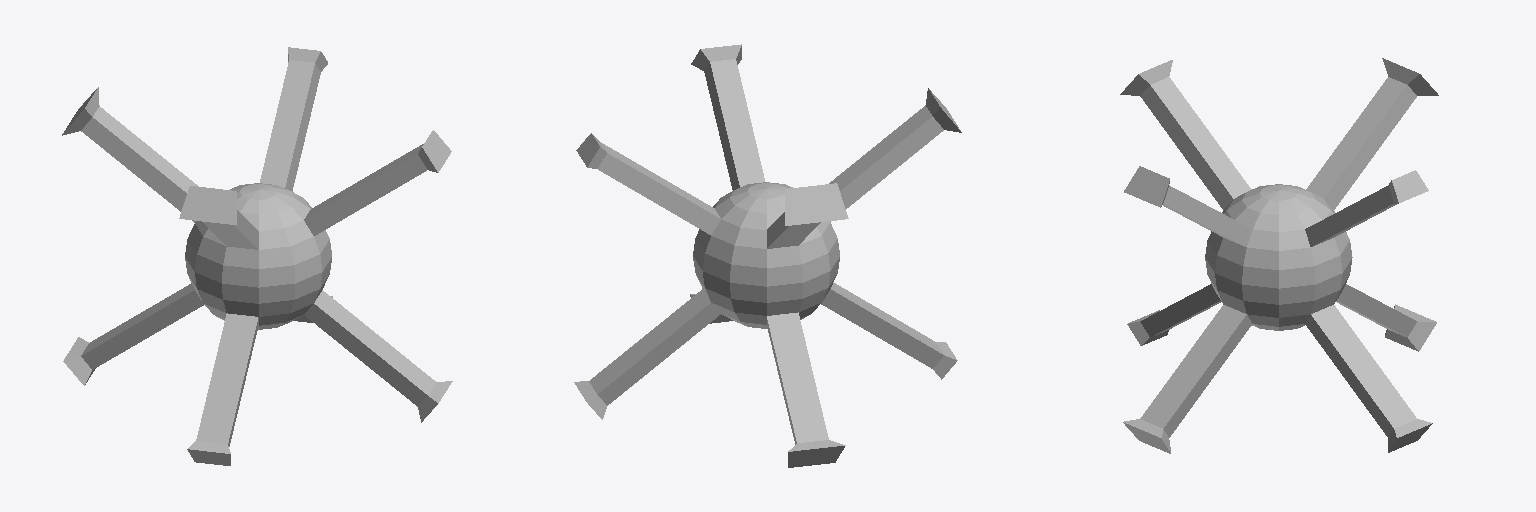
File: virus.obj
3 views of the same model, side by side, from view 1: azimuth 30°, elevation 25°; view 2: azimuth 150°, elevation 25°; view 3: azimuth 270°, elevation 25° (orthographic).
Bounding box in the file's own units: 4.31 × 4.17 × 4.34.